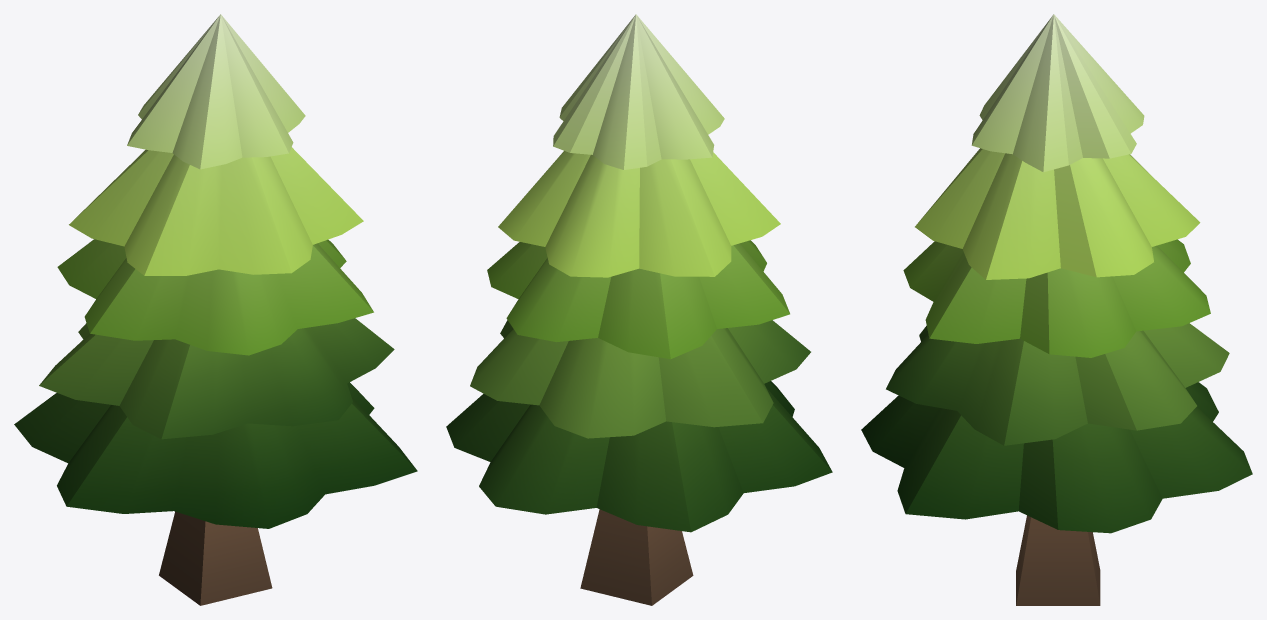
Rendered from PINETREE_FLIPPED.fbx.
3 views of the same model, side by side, from view 1: azimuth 30°, elevation 25°; view 2: azimuth 150°, elevation 25°; view 3: azimuth 270°, elevation 25° (orthographic).
Parts seen in each view (by area): view 1: Circle; view 2: Circle; view 3: Circle.
Part boxes in pixels (x1,y1,x2,y2): Circle: (14, 14, 417, 605); Circle: (446, 14, 832, 605); Circle: (861, 14, 1252, 605).
Bounding box in the file's own units: 1029 × 1652 × 1019.
Materials: 6 (6 with a texture image).
